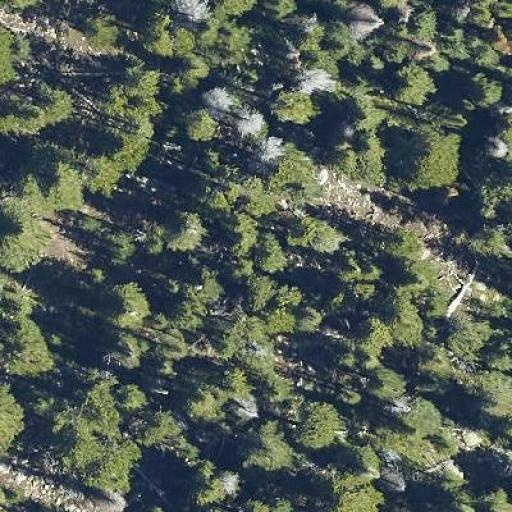tree-top: (0, 74, 78, 137), (328, 125, 396, 189), (379, 287, 440, 355), (407, 131, 471, 193), (0, 316, 61, 380), (239, 416, 299, 474), (178, 262, 236, 321), (292, 396, 346, 452), (158, 204, 211, 261), (185, 455, 242, 508), (441, 304, 498, 357), (104, 275, 154, 334), (137, 5, 186, 61), (399, 391, 453, 439), (292, 214, 346, 262), (0, 222, 46, 274), (43, 160, 87, 214), (183, 376, 230, 426), (269, 86, 322, 128), (475, 364, 512, 423), (1, 378, 30, 452), (327, 477, 388, 512), (181, 101, 225, 146), (392, 62, 437, 106), (77, 388, 124, 430), (222, 208, 263, 256), (466, 216, 508, 262), (1, 25, 32, 87), (140, 404, 184, 446), (474, 167, 509, 218), (239, 272, 280, 314), (59, 417, 96, 463), (485, 111, 512, 173), (369, 362, 410, 402), (98, 444, 136, 486), (468, 74, 509, 112), (1, 176, 40, 215), (253, 234, 288, 276), (232, 104, 268, 143), (81, 153, 117, 190), (407, 5, 440, 45), (200, 174, 239, 206), (359, 137, 390, 176), (228, 390, 263, 424), (353, 317, 387, 352), (108, 135, 146, 166), (264, 152, 302, 182), (347, 97, 382, 129), (180, 51, 217, 81), (244, 189, 275, 222), (351, 439, 382, 472), (80, 18, 110, 52), (354, 4, 388, 34), (119, 380, 148, 414), (216, 324, 246, 356), (215, 0, 267, 18), (405, 263, 431, 298), (225, 24, 257, 52), (256, 375, 288, 403), (470, 1, 497, 34), (136, 66, 162, 100), (246, 493, 292, 512), (108, 235, 136, 266), (323, 30, 353, 58), (297, 306, 329, 332), (100, 84, 128, 113), (112, 344, 140, 372), (485, 482, 510, 512), (387, 230, 415, 256), (123, 92, 153, 116), (336, 385, 364, 410), (295, 30, 321, 56), (431, 56, 460, 79), (473, 43, 498, 69), (266, 0, 300, 19), (334, 144, 358, 170), (351, 281, 378, 304), (444, 35, 472, 56), (159, 339, 188, 359), (341, 259, 365, 282), (155, 358, 177, 380), (364, 258, 382, 284), (200, 22, 222, 42), (201, 153, 223, 172)
